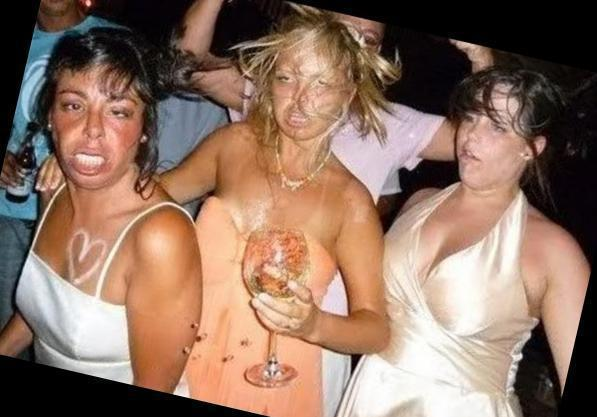Drunk: (57, 64, 140, 183), (457, 90, 525, 191), (268, 47, 343, 138)
